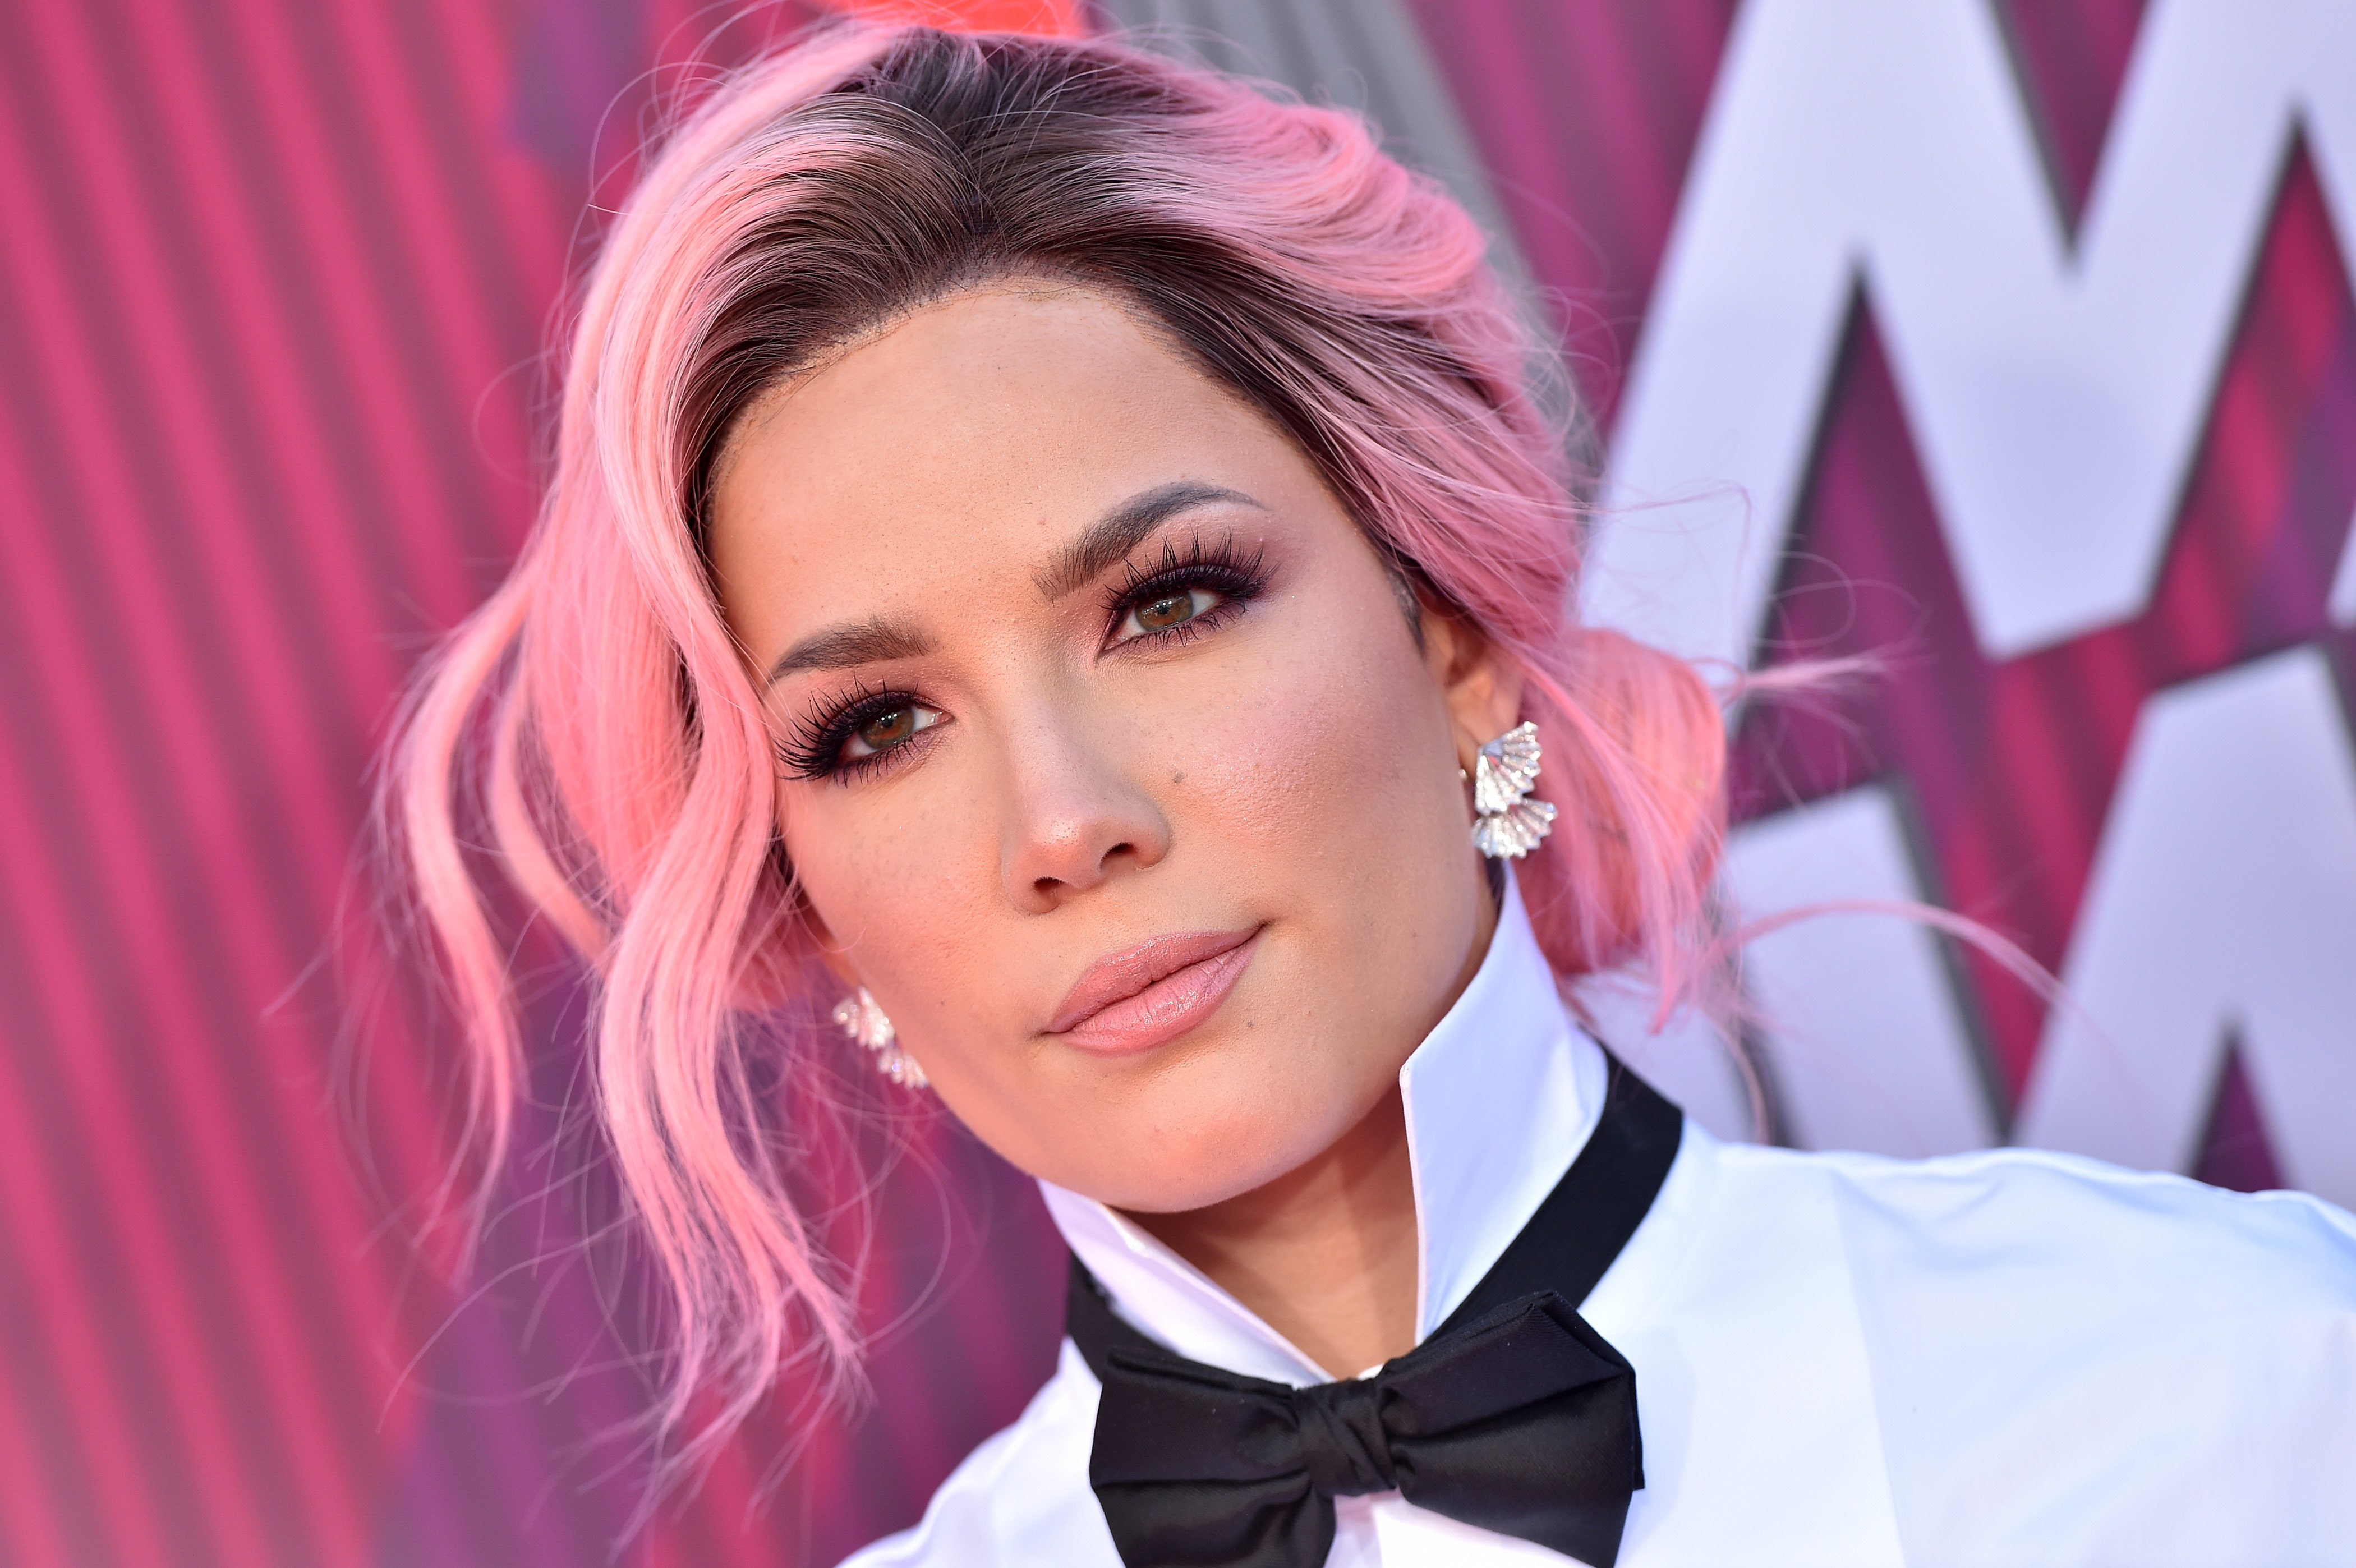NoMask: (739, 457, 1429, 1193)
